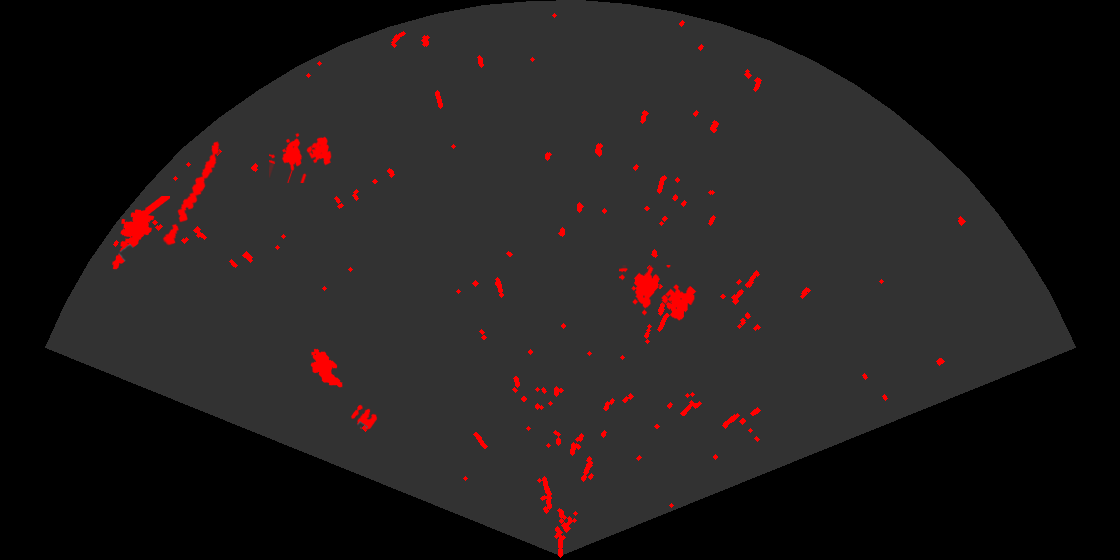AUV: (309, 347, 344, 389)
ball: (349, 403, 379, 431)
cage: (619, 265, 698, 322), (269, 131, 333, 183)
chain: (161, 140, 221, 247)
frogman: (110, 196, 170, 271)
